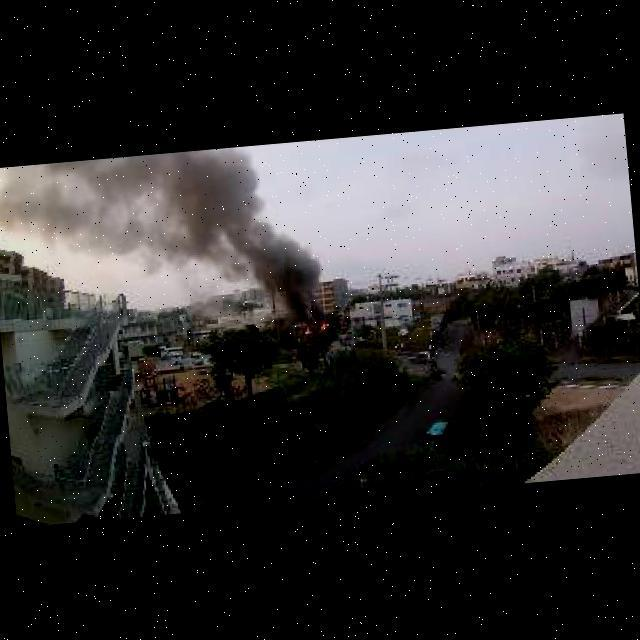Fire: (318, 321, 329, 330), (305, 327, 312, 334)
Smoke: (0, 144, 266, 276), (204, 223, 334, 322)
